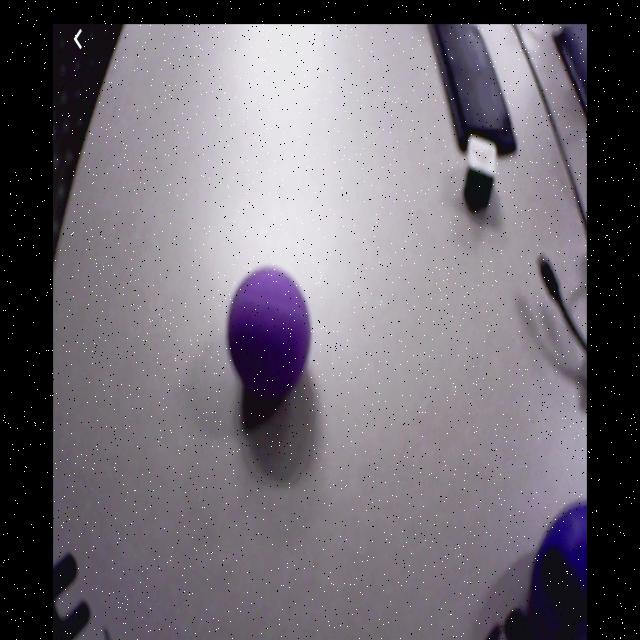ball: (228, 267, 311, 400), (532, 504, 587, 640)
